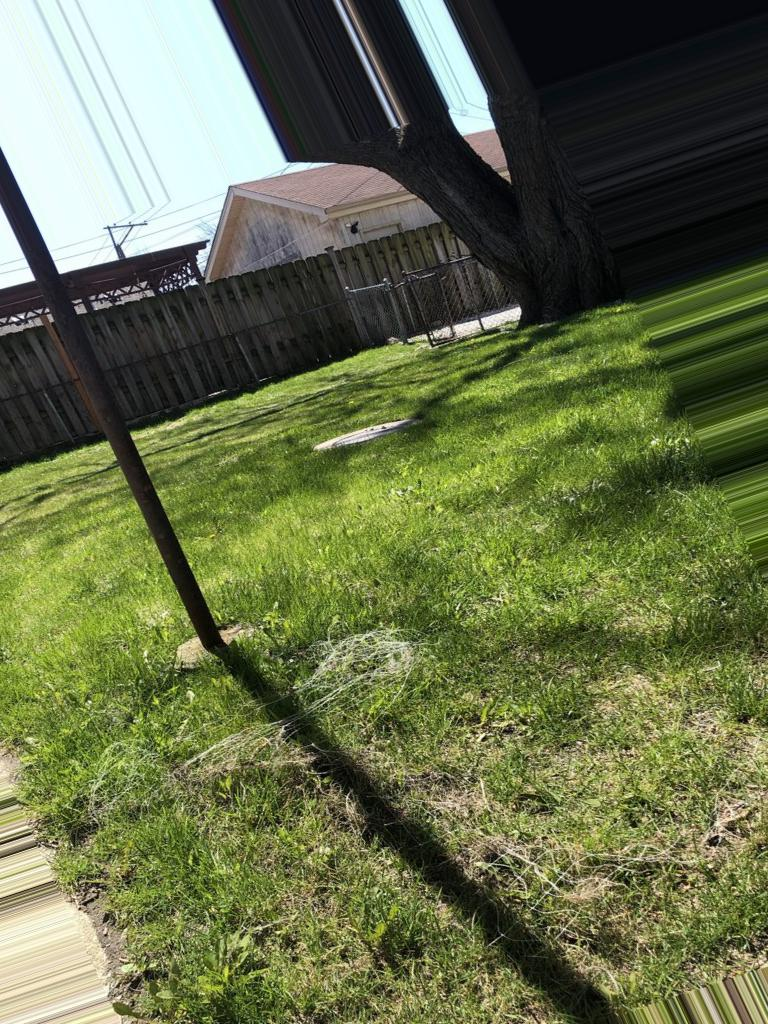patch: (532, 851, 584, 910), (420, 794, 477, 844), (684, 719, 740, 746), (546, 746, 579, 775)
